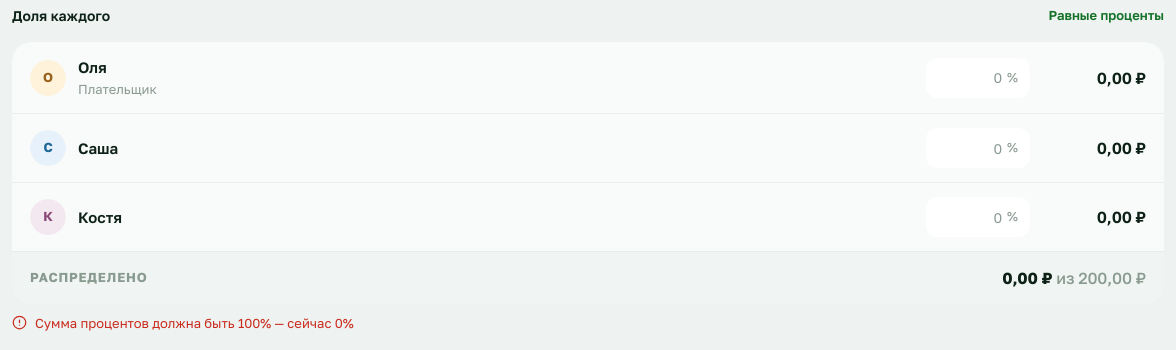
Test: SplitEditor — percentage mode › confirms the split adds up once the percentages total 100
Type "50" into the field named "Процент: Оля" at {"x": 978, "y": 78}, box [926,58,1030,98]
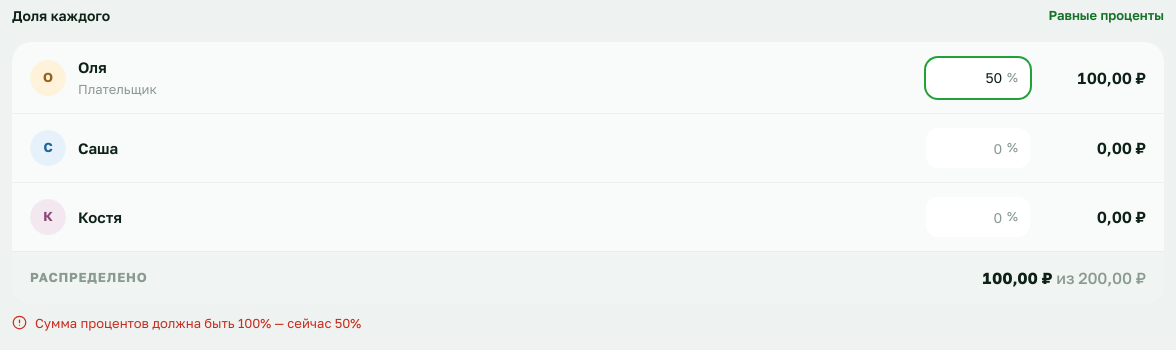
Type "30" into the field named "Процент: Саша" at {"x": 978, "y": 148}, box [926,128,1030,168]
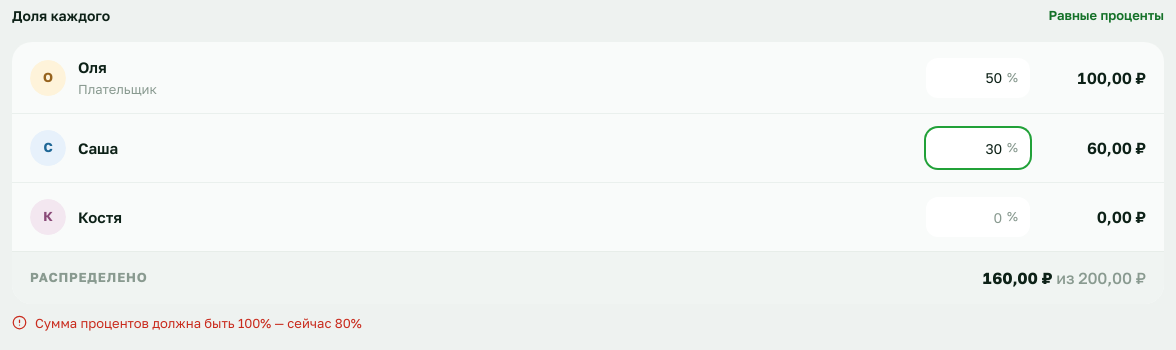
Type "20" into the field named "Процент: Костя" at {"x": 978, "y": 217}, box [926,197,1030,237]
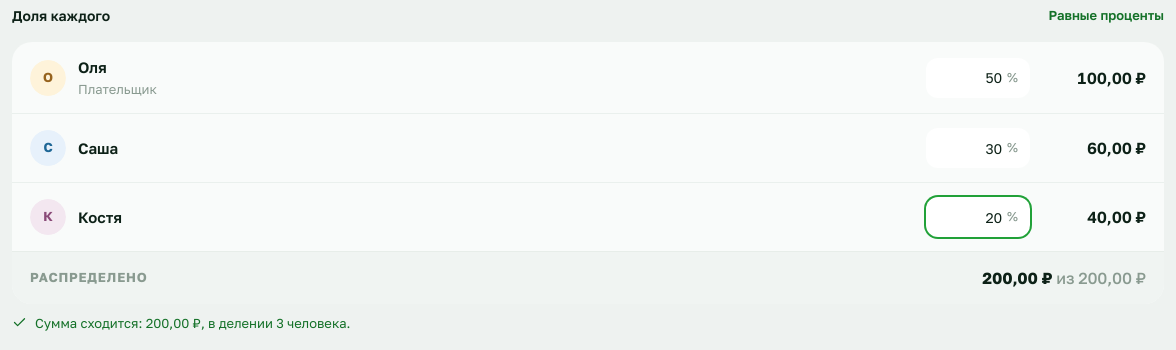
Now the text "Сумма сходится: 200,00 ₽, в делении 3 человека." is shown, box [35,314,350,334]
Now the text "Сумма процентов" is gone
